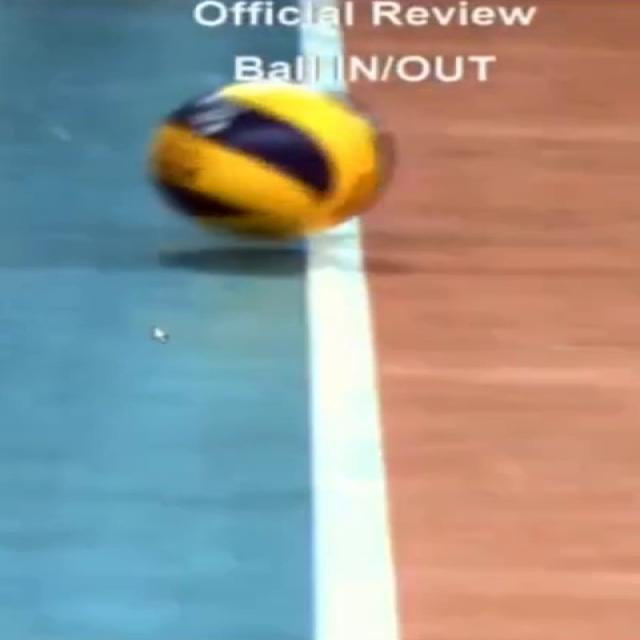Volleyball: (156, 82, 392, 235)
